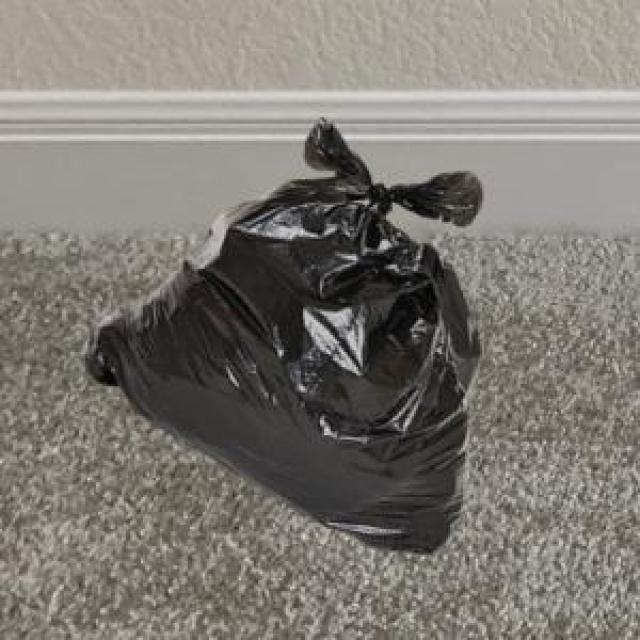miscellaneous trash: (81, 115, 478, 550)
